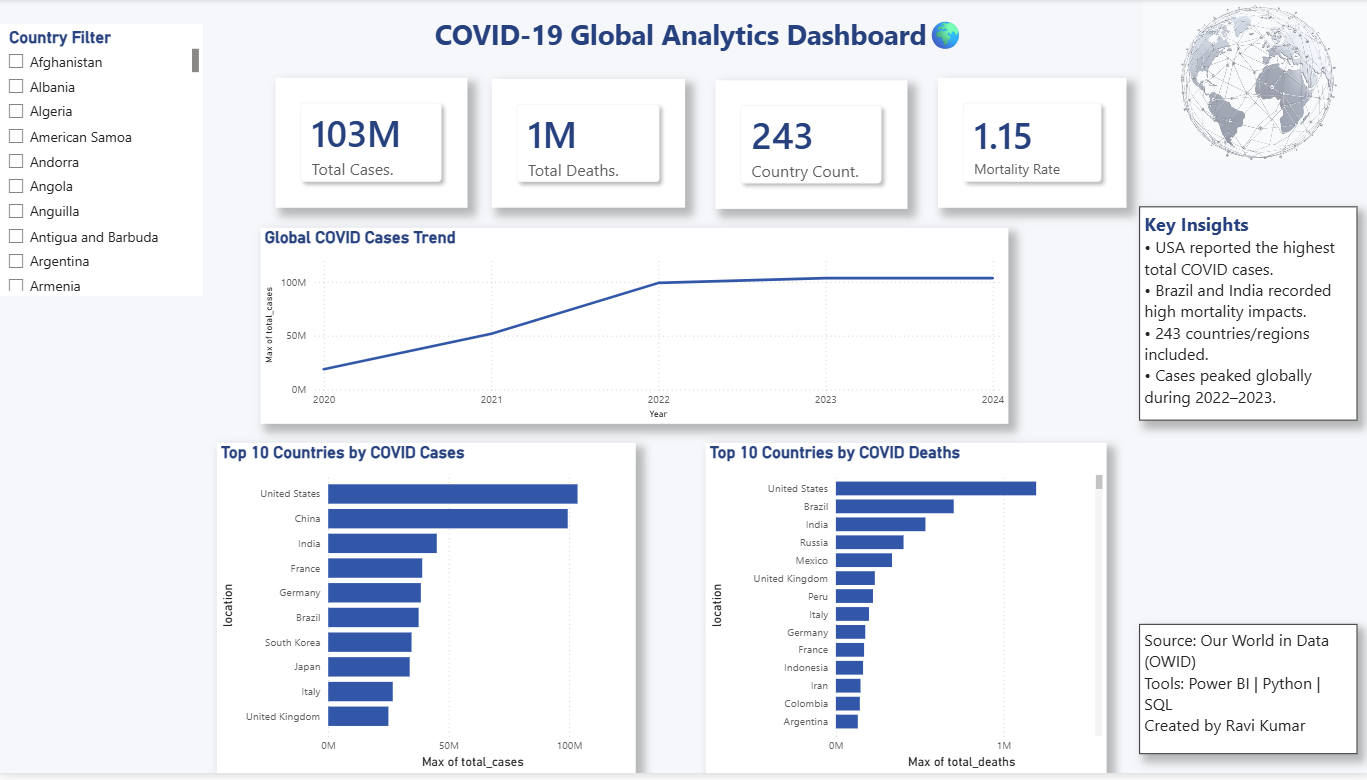

This screenshot's page, from the dashboard's own definition file:
{"tool":"powerbi","page":{"name":"Page 1","canvas":[1600,900],"ordinal":0},"visuals":[{"type":"cardVisual","title":"103M Total Cases","fields":{"Data":["covid_cleaned.Total Cases KPI"]},"box":[322.5,90.9,223,150.9],"z":0},{"type":"slicer","fields":{"Values":["covid_cleaned.location"]},"box":[0,29.2,238.4,315.6],"z":3000},{"type":"lineChart","title":"Global COVID Cases Trend","fields":{"Category":["covid_cleaned.date.Variation.Date Hierarchy.Year","covid_cleaned.date.Variation.Date Hierarchy.Quarter","covid_cleaned.date.Variation.Date Hierarchy.Month","covid_cleaned.date.Variation.Date Hierarchy.Day"],"Y":["Max(covid_cleaned.total_cases)"]},"box":[305.3,265.9,869.6,228.1],"z":3001},{"type":"clusteredBarChart","title":"Top 10 Countries by COVID Cases","fields":{"Category":["covid_cleaned.location"],"Y":["Max(covid_cleaned.total_cases)"]},"box":[253.9,516.3,487.1,384.2],"z":3002},{"type":"clusteredBarChart","title":"Top 10 Countries by COVID Deaths","fields":{"Category":["covid_cleaned.location"],"Y":["Max(covid_cleaned.total_deaths)"]},"box":[823.3,516.3,466.6,384.2],"z":3003},{"type":"cardVisual","fields":{"Data":["covid_cleaned.Total Deaths KPI","covid_cleaned.Total Deaths KPI"]},"box":[574.6,92.6,224.7,149.2],"z":3005},{"type":"cardVisual","fields":{"Data":["covid_cleaned.Country Count KPI 2"]},"box":[833.6,94.3,223,149.2],"z":3006},{"type":"textbox","box":[502.8,15,625.9,60],"z":3007},{"type":"textbox","box":[1327.6,241.9,253.9,248.7],"z":3010},{"type":"textbox","box":[1327.6,727.3,253.9,150.9],"z":3011},{"type":"cardVisual","fields":{"Data":["covid_cleaned.Mortality Rate"]},"box":[1092.6,90.9,219.6,150.9],"z":3012},{"type":"image","box":[1329.8,0,270.2,187.6],"z":3013}]}

Visuals, with their boxes in screenshot pixels (x1, y1, x2, y2), scaled from the page's 1600x900 canvas onto the 1367x780 screenshot:
"103M Total Cases" cardVisual: select_region(276, 79, 466, 210)
slicer - covid_cleaned.location: select_region(0, 25, 204, 299)
"Global COVID Cases Trend" lineChart: select_region(261, 230, 1004, 428)
"Top 10 Countries by COVID Cases" clusteredBarChart: select_region(217, 447, 633, 779)
"Top 10 Countries by COVID Deaths" clusteredBarChart: select_region(703, 447, 1102, 779)
cardVisual - covid_cleaned.Total Deaths KPI x covid_cleaned.Total Deaths KPI: select_region(491, 80, 683, 210)
cardVisual - covid_cleaned.Country Count KPI 2: select_region(712, 82, 903, 211)
textbox: select_region(430, 13, 964, 65)
textbox: select_region(1134, 210, 1351, 425)
textbox: select_region(1134, 630, 1351, 761)
cardVisual - covid_cleaned.Mortality Rate: select_region(933, 79, 1121, 210)
image: select_region(1136, 0, 1366, 163)
